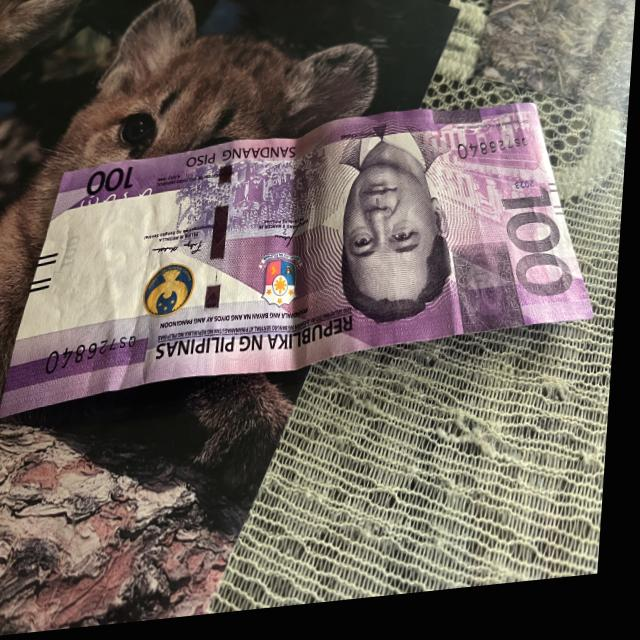concealed_value: (449, 247, 536, 348)
security_thread: (204, 155, 235, 373)
see_through_mark: (72, 188, 160, 223)
serial_number: (50, 331, 142, 378), (450, 137, 536, 176)
value: (494, 185, 587, 323)
value_watermark: (61, 234, 85, 277)
watermark: (59, 202, 155, 338)
